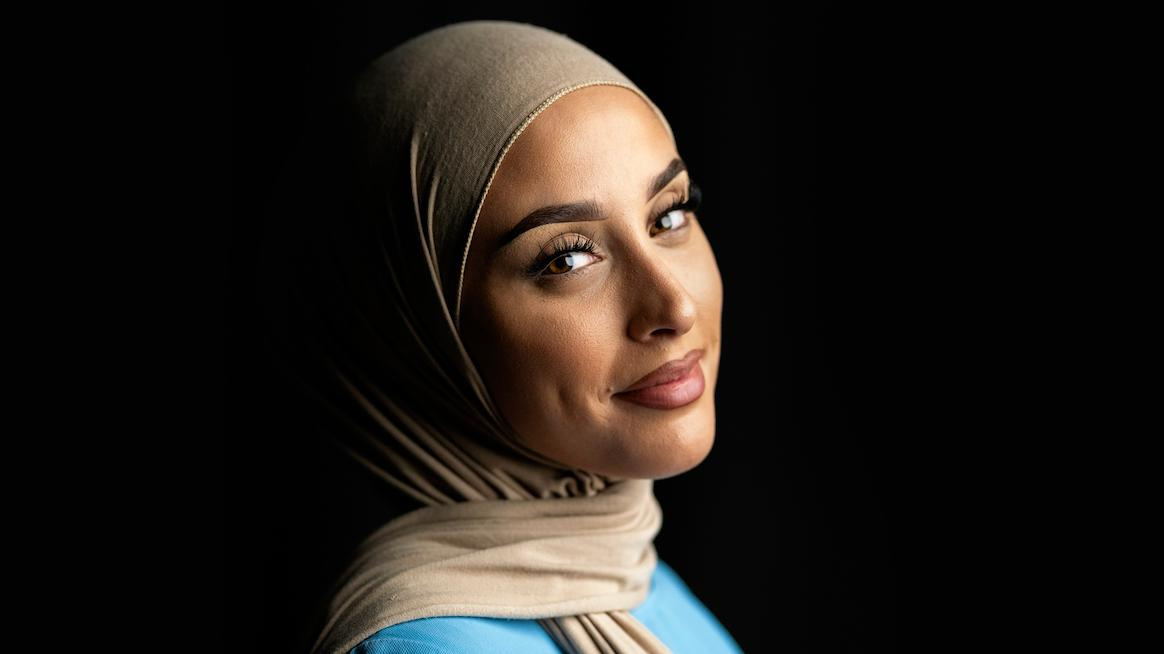Persons: (237, 0, 783, 525)
